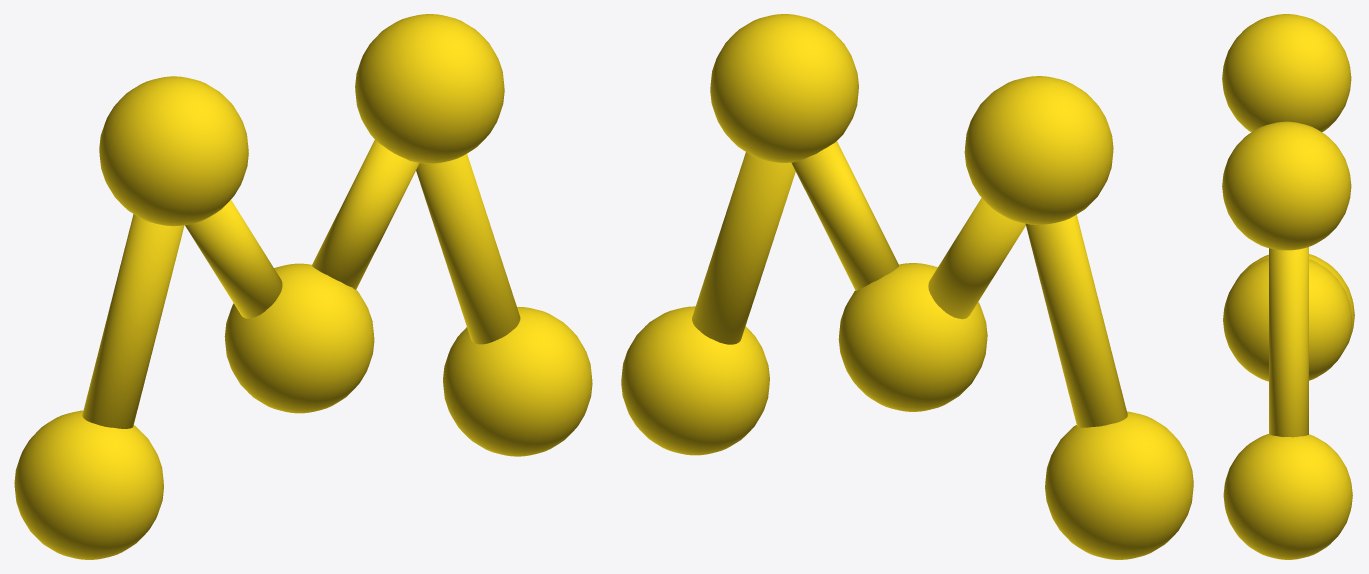
File: Manchete.dae
3 views of the same model, side by side, from view 1: azimuth 30°, elevation 25°; view 2: azimuth 150°, elevation 25°; view 3: azimuth 270°, elevation 25° (orthographic). The views are drawn at different scales.
Parts seen in each view (by area): view 1: Sphere_001; view 2: Sphere_001; view 3: Sphere_001.
Boxes of the visible parts, x1,y1,x2,y2 form: Sphere_001: (14, 14, 592, 559); Sphere_001: (621, 14, 1193, 559); Sphere_001: (1222, 14, 1354, 559).
Bounding box in the file's own units: 8.58 × 2.05 × 6.64.
